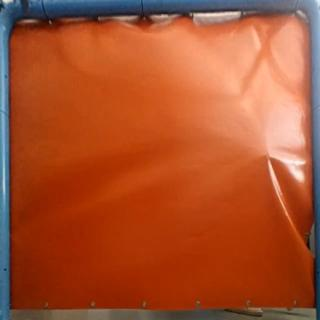Hit-hRxx: (256, 149, 278, 167)
